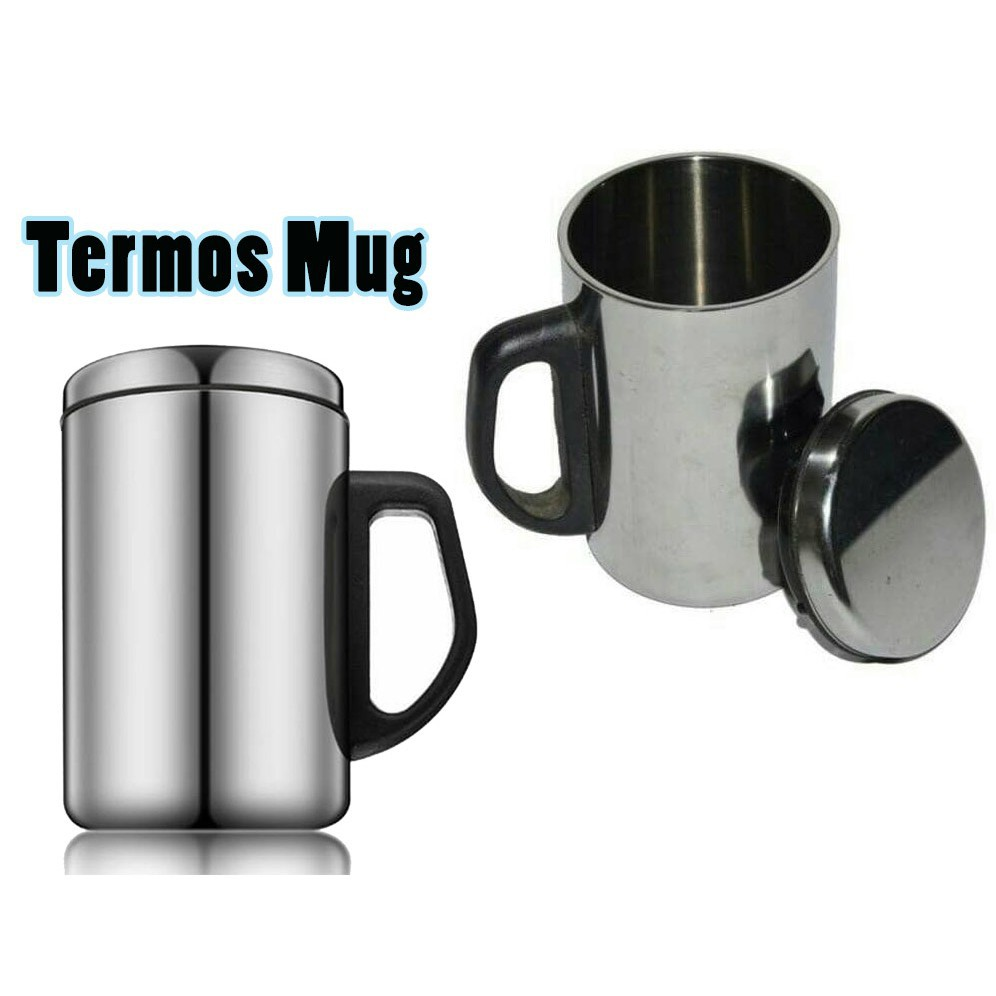gelas: (459, 118, 989, 716), (56, 342, 471, 875)
